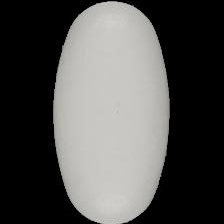10370-511: (0, 0, 224, 224)
